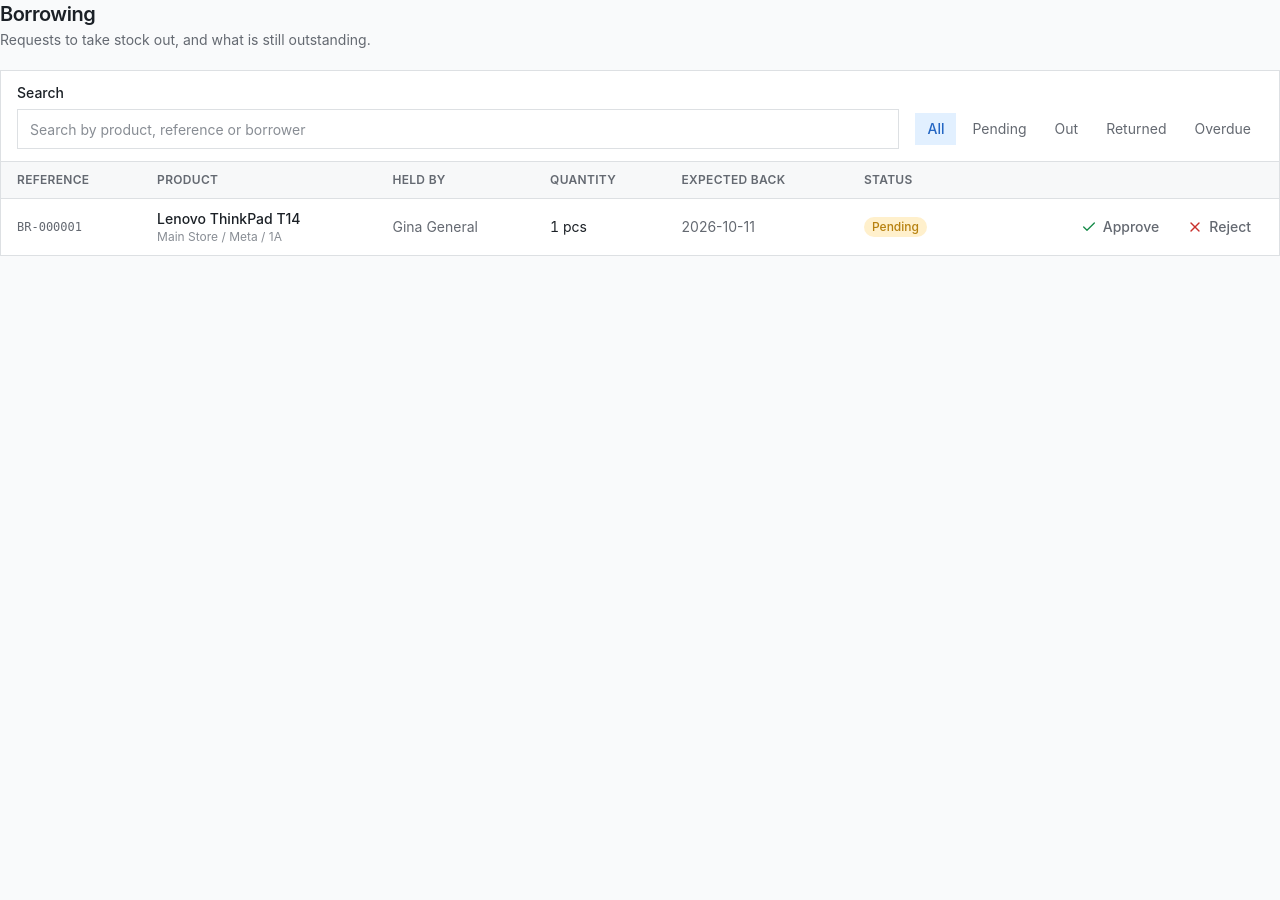
BorrowingPage reject › asks first, and says what rejecting does
The width and height of the screenshot is (1280, 900).
Click the button "Reject" at (1219, 227), box [1175,211,1263,243]
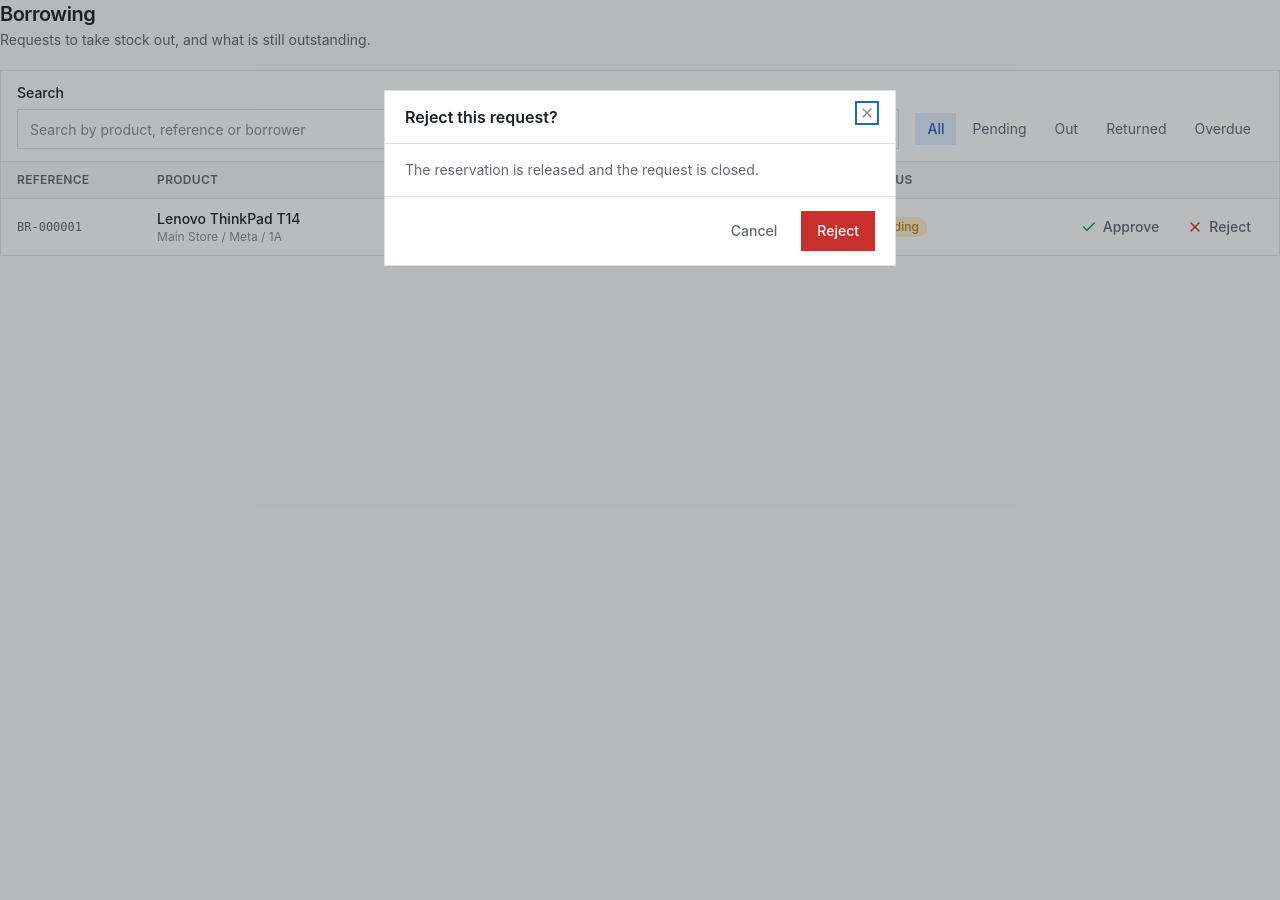
Expected: the dialog "Reject this request?" is shown, [384,90,896,266]
Expected: the text "The reservation is released and the request is closed." is shown, [405,161,759,178]
